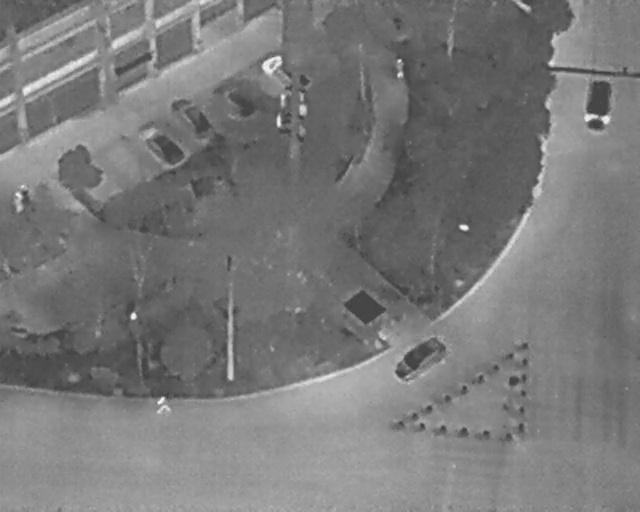Car: (388, 327, 454, 390), (254, 43, 314, 102), (206, 70, 263, 128), (164, 85, 219, 145), (135, 115, 188, 172), (580, 75, 616, 134)
Person: (16, 181, 33, 207), (12, 188, 24, 216), (156, 394, 171, 415), (394, 55, 405, 79)
